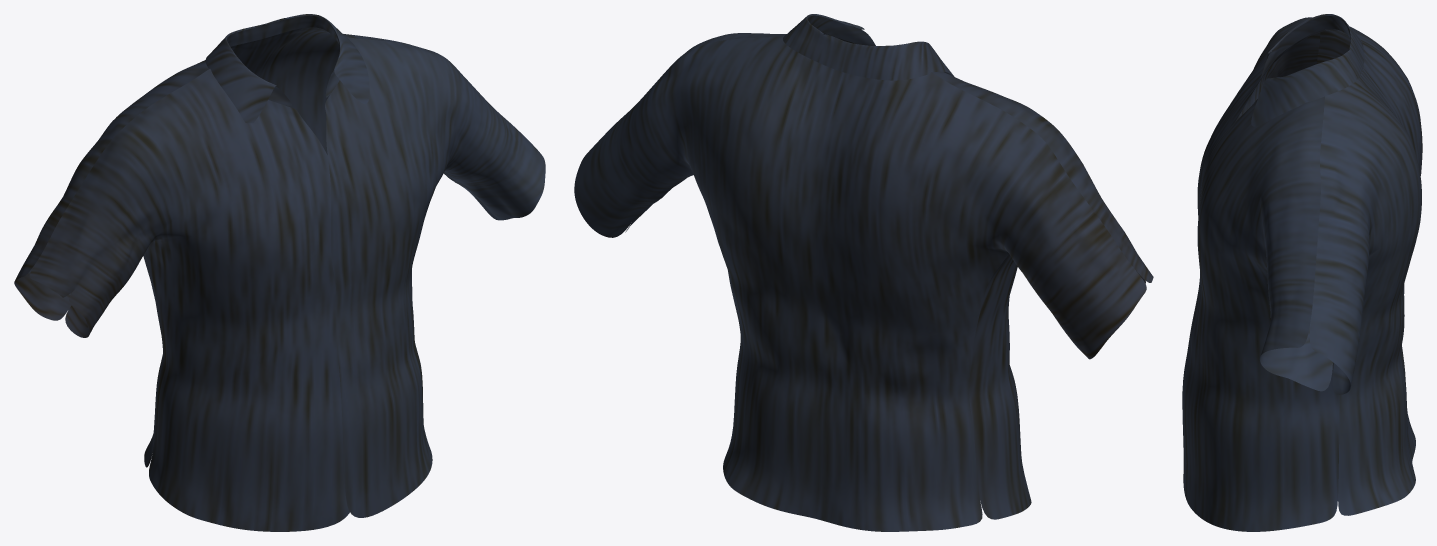
The model's file is SXL_XLM.dae.
3 views of the same model, side by side, from view 1: azimuth 30°, elevation 25°; view 2: azimuth 150°, elevation 25°; view 3: azimuth 270°, elevation 25° (orthographic). The views are drawn at different scales.
Parts seen in each view (by area): view 1: testxlm-shirt01.001; view 2: testxlm-shirt01.001; view 3: testxlm-shirt01.001.
Boxes of the visible parts, left/top/right/bottom form: testxlm-shirt01.001: left=14, top=14, right=545, bottom=531; testxlm-shirt01.001: left=574, top=14, right=1153, bottom=531; testxlm-shirt01.001: left=1182, top=14, right=1422, bottom=531.
Bounding box in the file's own units: 7.56 × 6.24 × 3.
